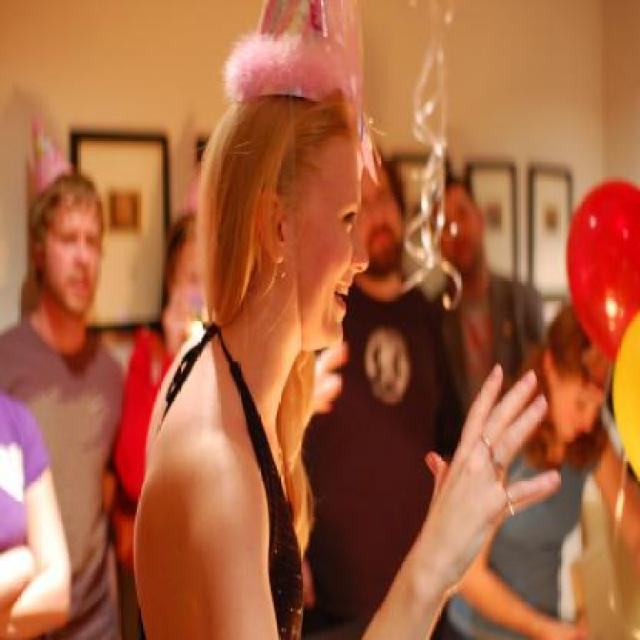balloon: (557, 170, 640, 372), (606, 307, 640, 499)
